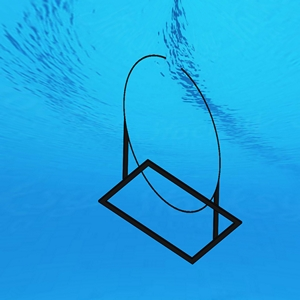circle: (99, 52, 247, 266)
